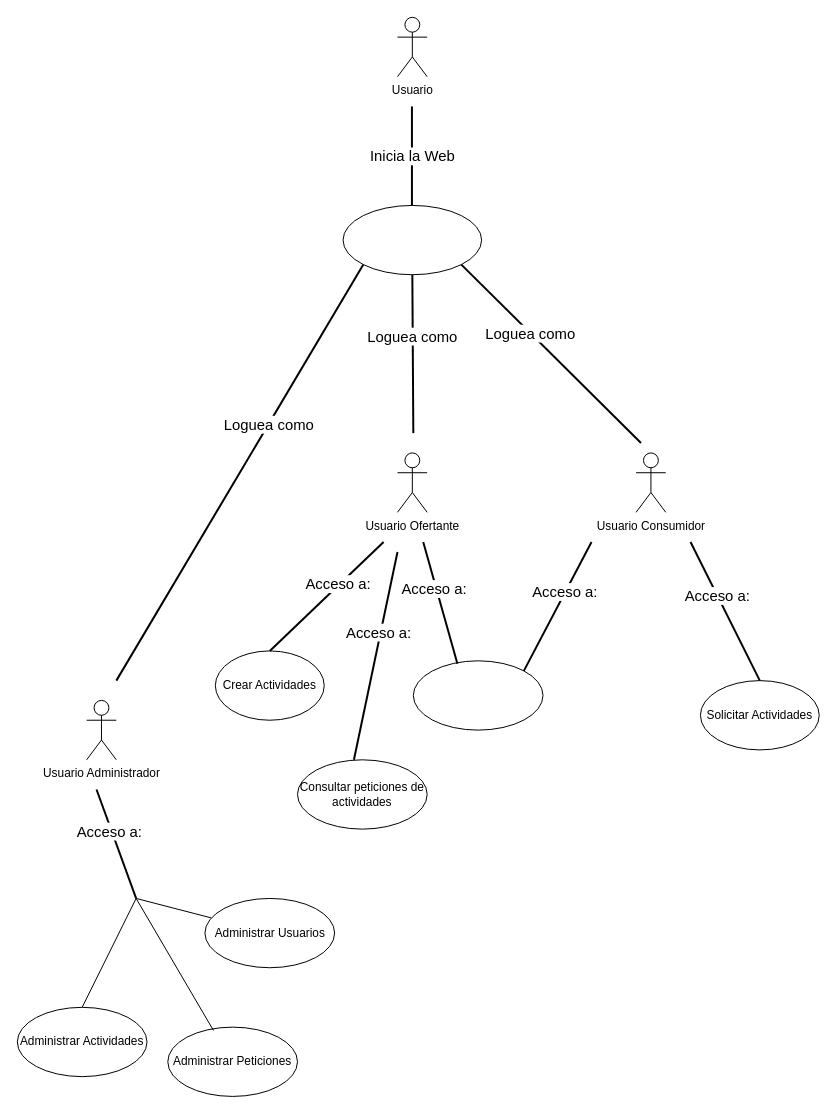
The diagram is 837 pixels wide and 1114 high, and some of its shapes have lost their labels. The box of each missing label's shape, as (x1, y1, x2, y2) in pixels:
Consultar actividades: (412, 660, 543, 730)
Login: (342, 204, 482, 275)
